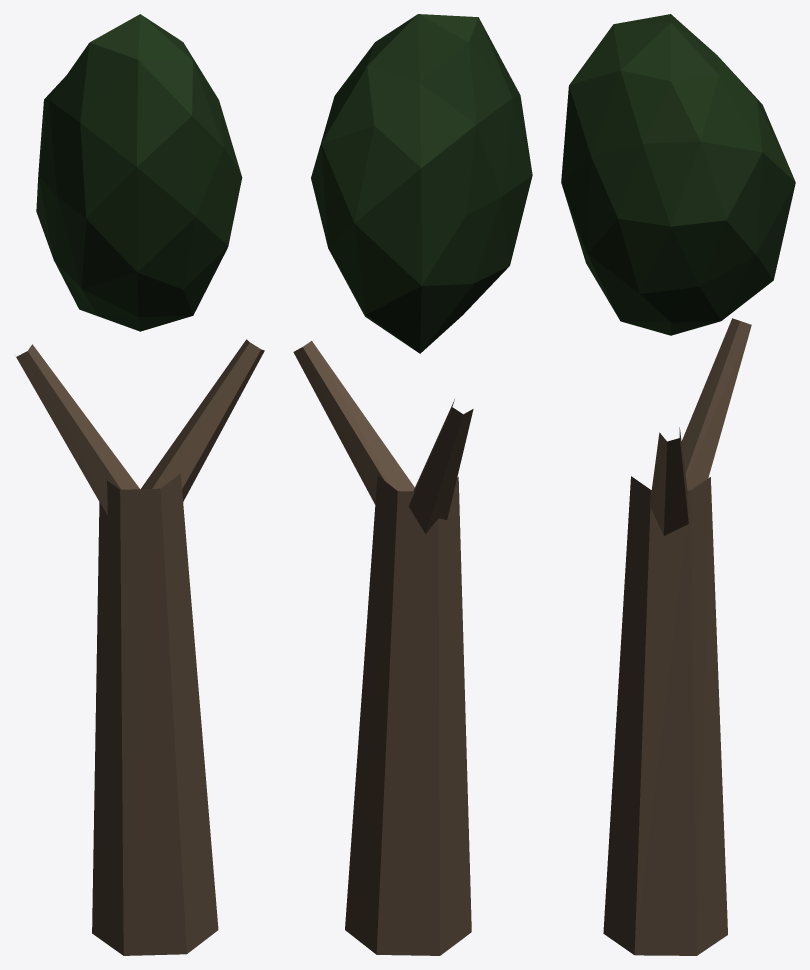
Rendered from 0943-Forest-trees-painted-woods-broadleafTall-2.glb.
The picture shows the model from 3 angles, left to right: view 1: azimuth 30°, elevation 25°; view 2: azimuth 150°, elevation 25°; view 3: azimuth 270°, elevation 25°; orthographic projection.
Parts seen in each view (by area): view 1: Forest trees (painted woods)/broadleafTall/2; view 2: Forest trees (painted woods)/broadleafTall/2; view 3: Forest trees (painted woods)/broadleafTall/2.
Boxes of the visible parts, x1,y1,x2,y2 form: Forest trees (painted woods)/broadleafTall/2: (16,14,264,955); Forest trees (painted woods)/broadleafTall/2: (293,14,532,955); Forest trees (painted woods)/broadleafTall/2: (561,14,795,955).
Size of the model in its own units: 0.1737 by 0.7193 by 0.1686.
